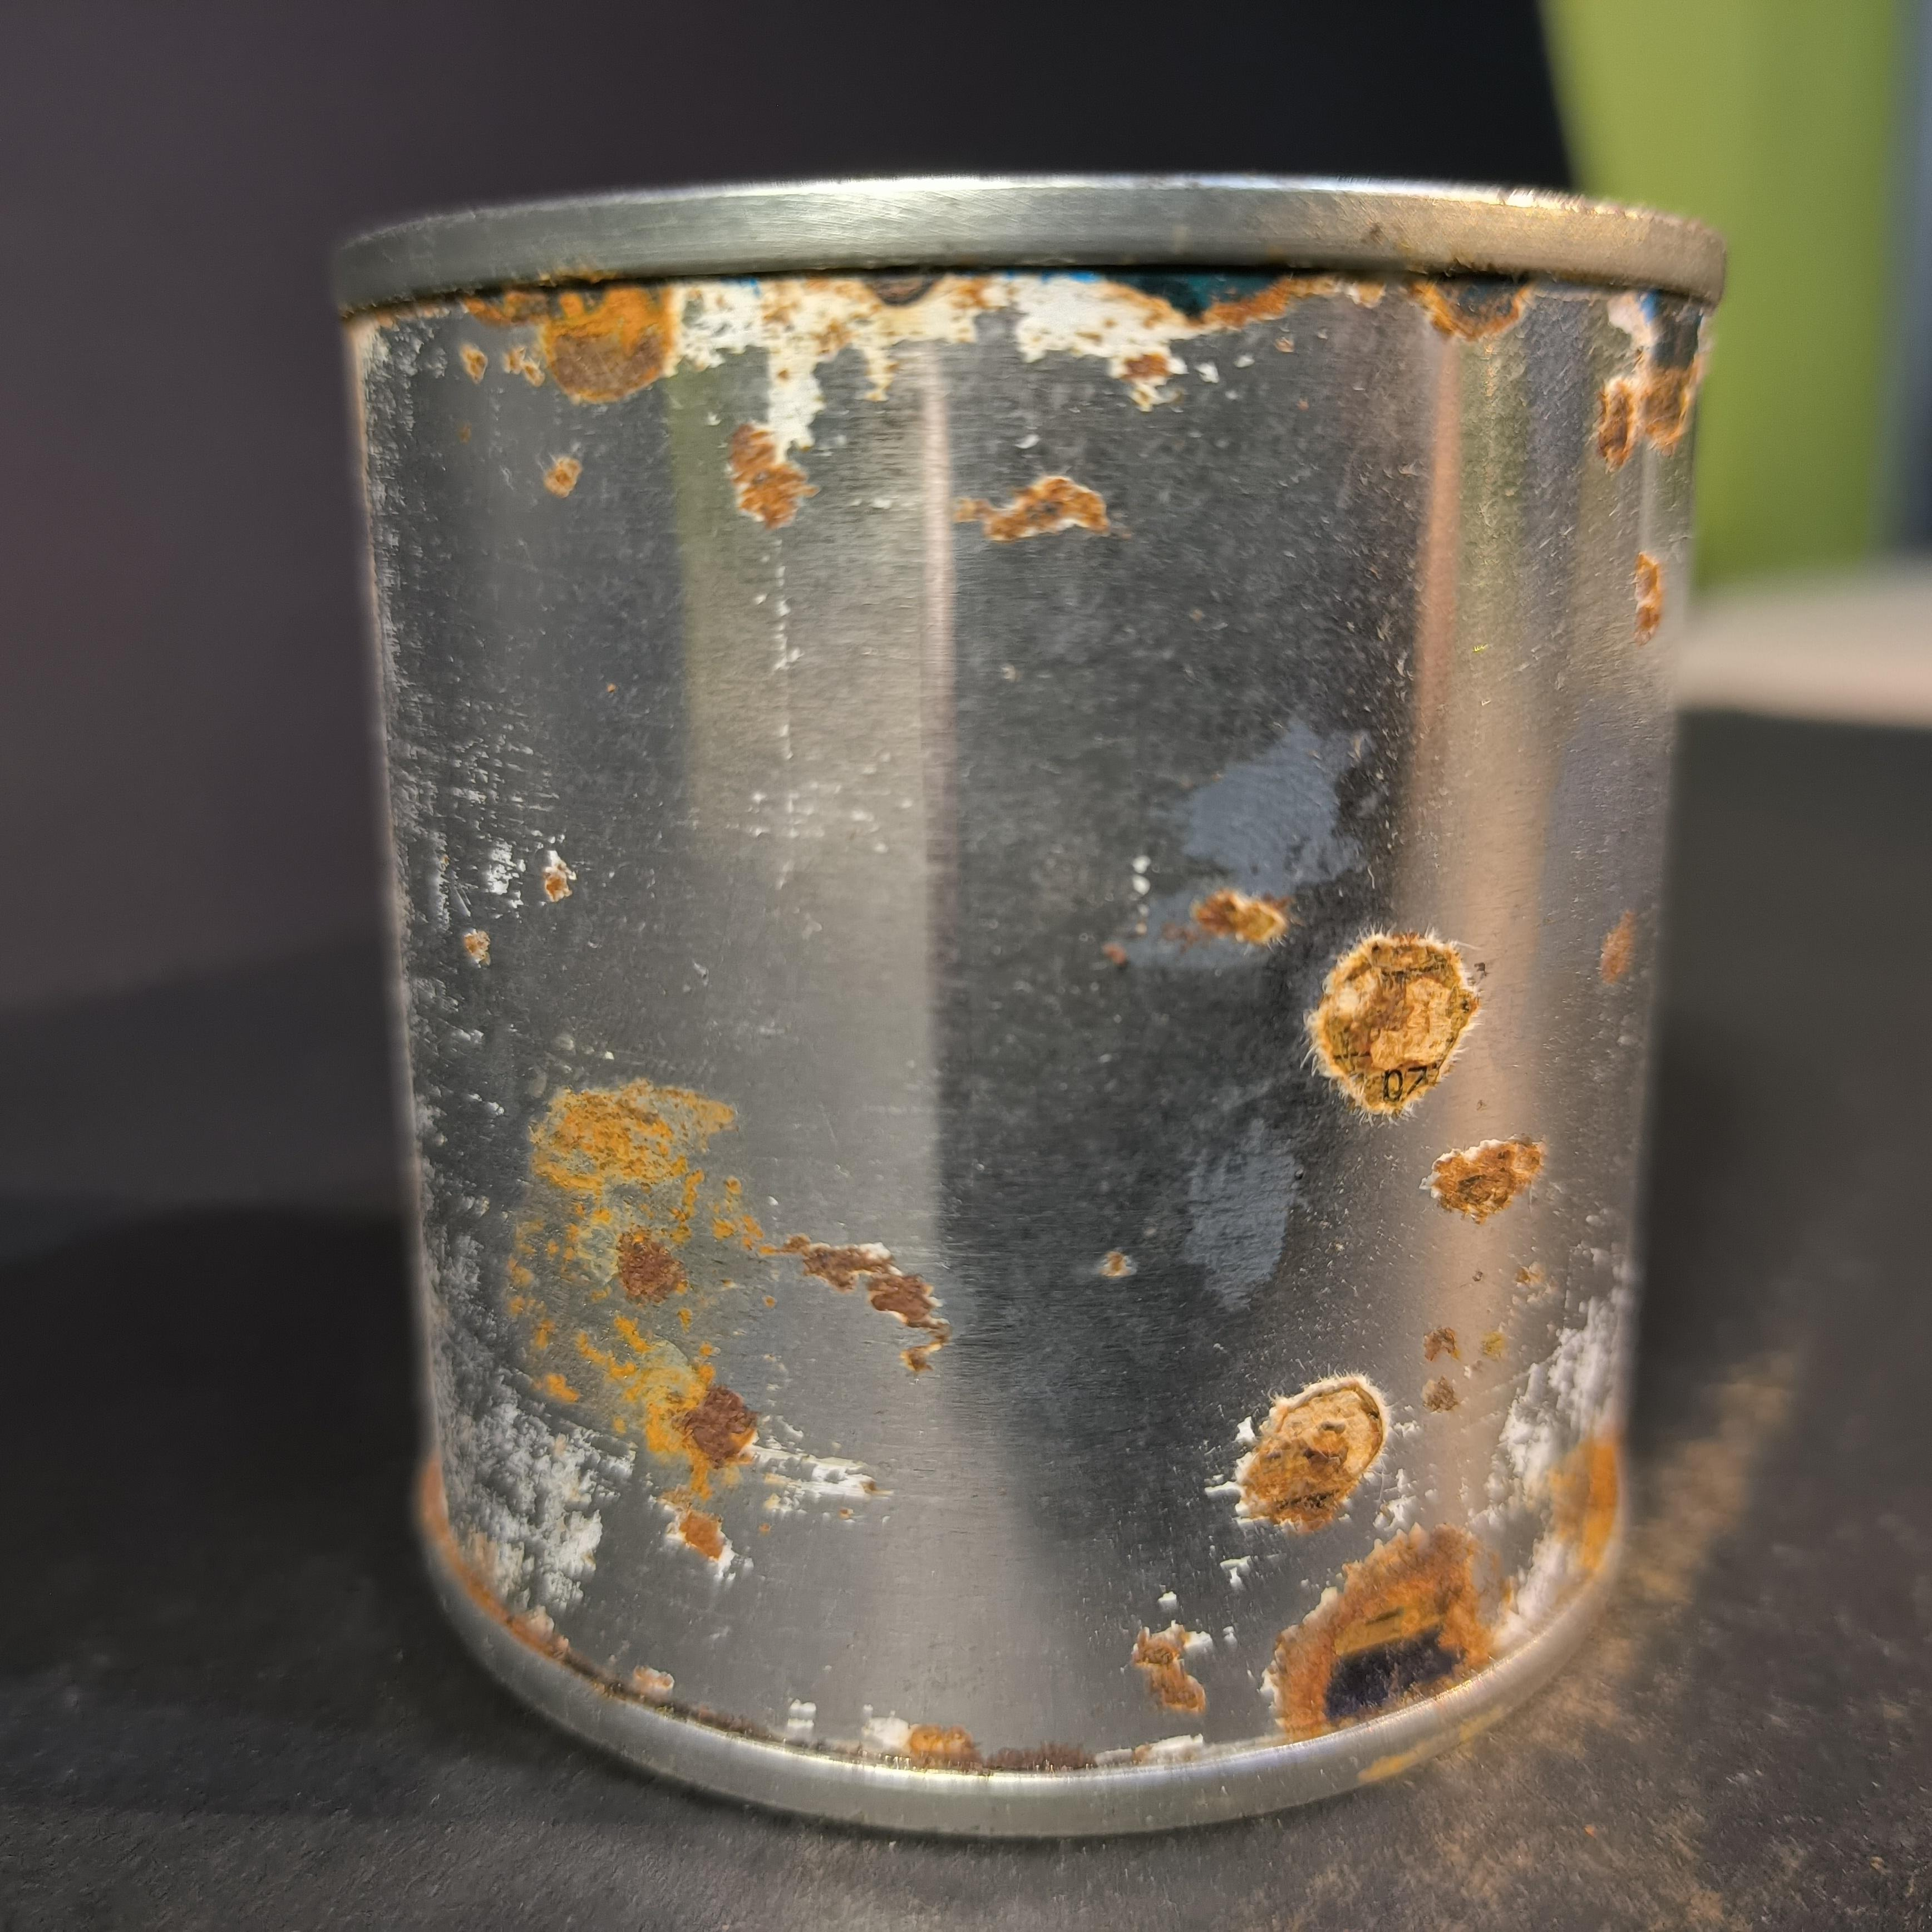Rusted: (301, 140, 1706, 1817)
